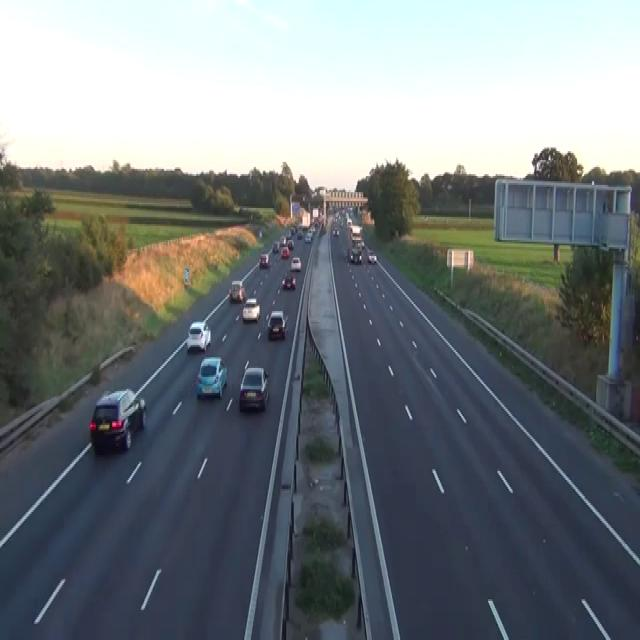Car: (89, 388, 146, 452), (239, 366, 269, 411), (195, 356, 227, 398), (186, 320, 211, 352), (267, 310, 288, 340), (242, 297, 260, 322), (229, 279, 245, 302), (362, 242, 377, 263), (281, 272, 295, 288), (349, 247, 361, 263), (350, 224, 362, 238), (290, 256, 301, 270), (259, 252, 269, 266), (367, 249, 377, 263), (281, 245, 289, 258), (304, 231, 312, 242), (272, 240, 279, 252), (332, 226, 339, 236), (287, 240, 294, 249), (280, 234, 286, 243), (309, 224, 315, 233), (313, 217, 319, 226), (297, 230, 303, 238), (290, 226, 296, 234), (347, 217, 352, 226), (321, 224, 326, 233), (286, 230, 292, 237), (258, 228, 262, 238), (360, 240, 364, 249)
Truck: (346, 224, 363, 263)
